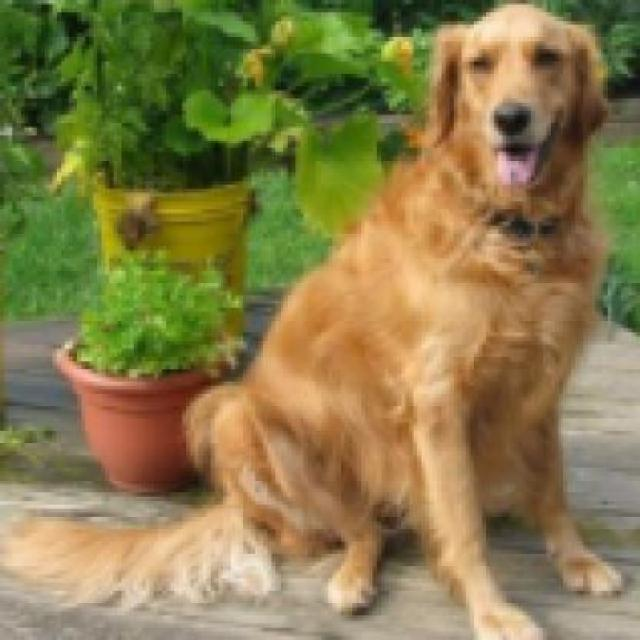Dog: (4, 4, 636, 636)
